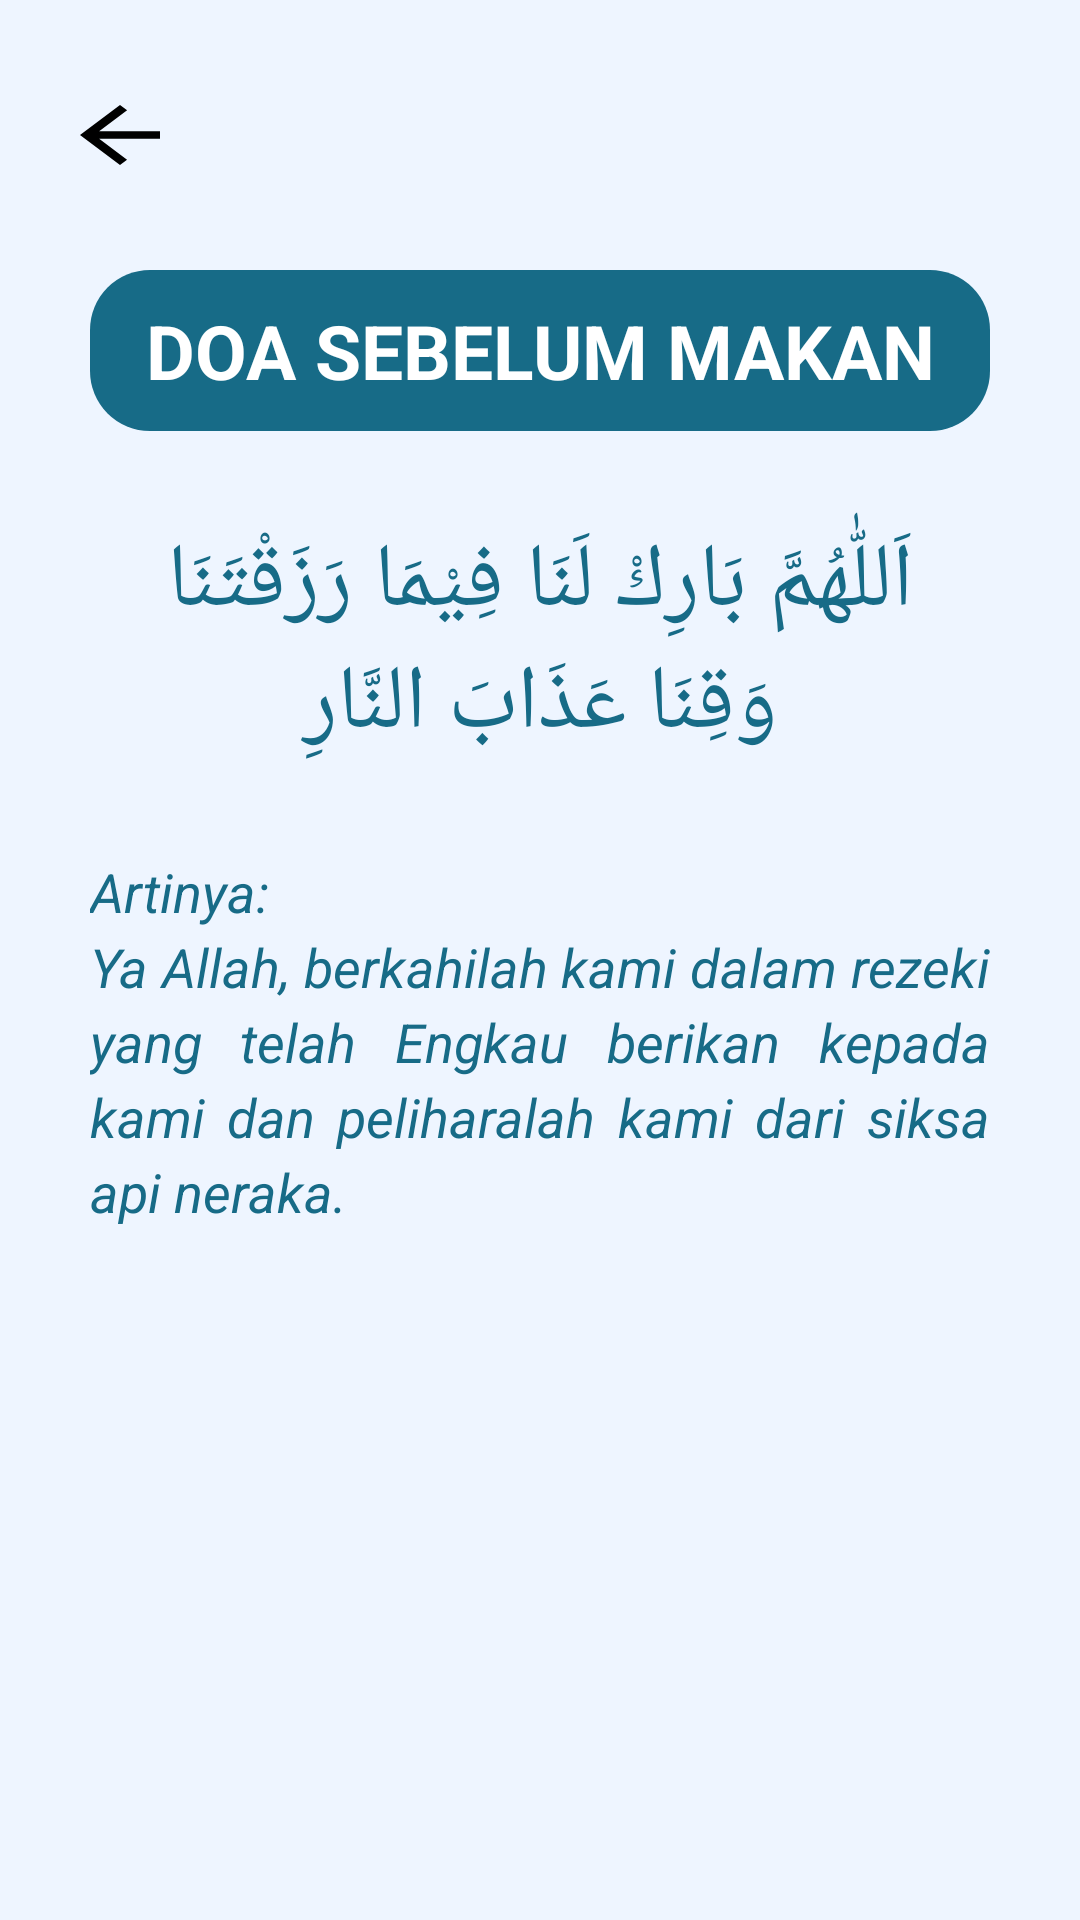

Icons on this 1080w x 1920h Android screen, each with its box as (x1, y1, x2, y2):
arrow back: (80, 105, 160, 165)
